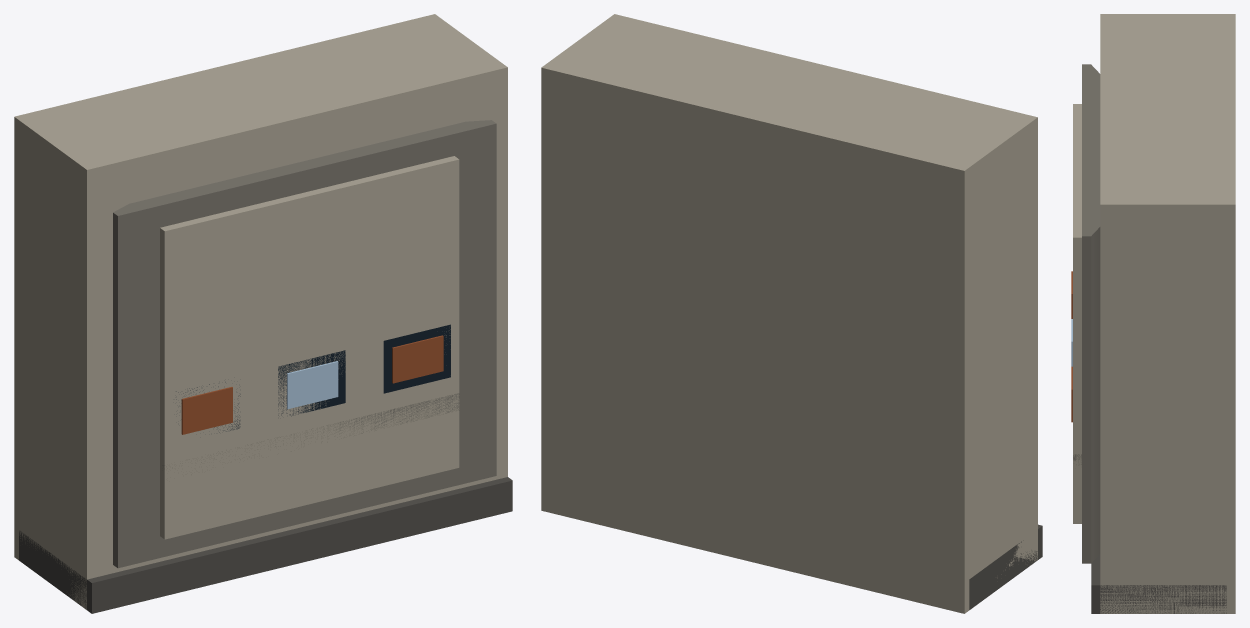
File: civilian_wall_detail.glb
3 views of the same model, side by side, from view 1: azimuth 30°, elevation 25°; view 2: azimuth 150°, elevation 25°; view 3: azimuth 270°, elevation 25° (orthographic). The views are drawn at different scales.
Visible parts, largest first — view 1: civilian_wall_detail; view 2: civilian_wall_detail; view 3: civilian_wall_detail.
Boxes of the visible parts, x1,y1,x2,y2 form: civilian_wall_detail: (14,14,512,613); civilian_wall_detail: (541,14,1042,613); civilian_wall_detail: (1071,14,1235,613).
Bounding box in the file's own units: 1 × 1 × 0.364.
